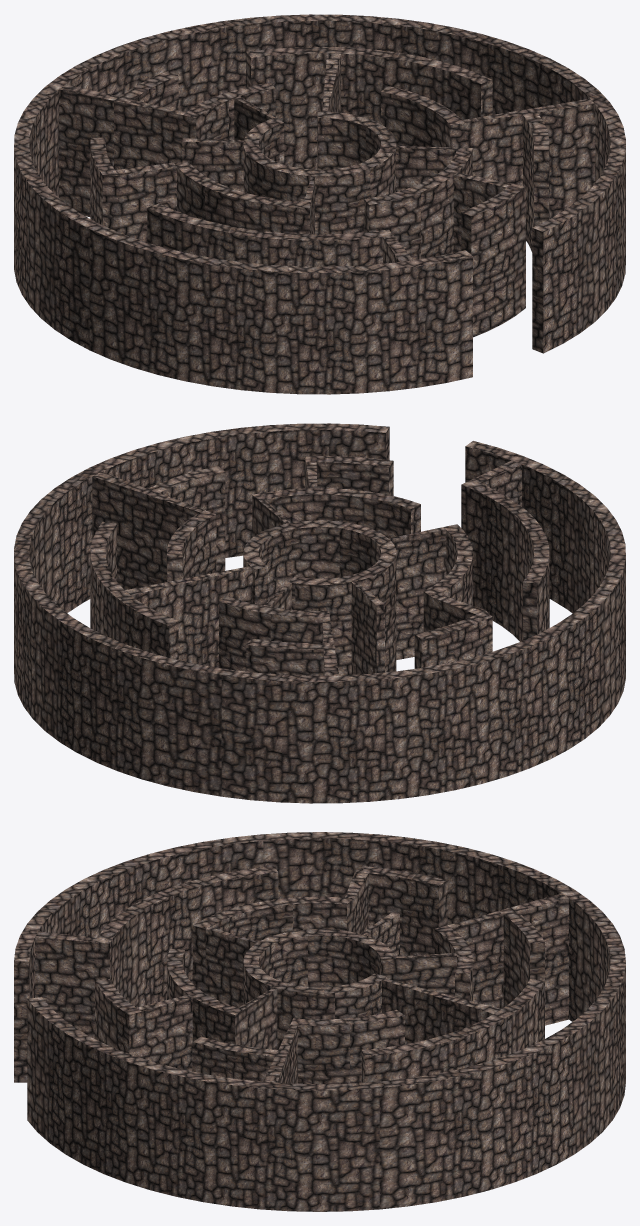
The model's file is HardMaze_3.dae.
The picture shows the model from 3 angles, top to bottom: view 1: azimuth 30°, elevation 25°; view 2: azimuth 150°, elevation 25°; view 3: azimuth 270°, elevation 25°; orthographic projection.
Parts seen in each view (by area): view 1: Plane; view 2: Plane; view 3: Plane.
Part boxes in pixels (x1,y1,x2,y2): Plane: (14,14,625,394); Plane: (14,423,625,803); Plane: (14,832,625,1211).
Size of the model in its own units: 32 by 32 by 7.
